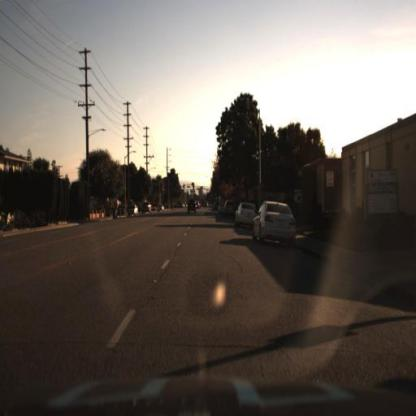car: (252, 199, 301, 248), (237, 203, 264, 225), (188, 196, 198, 217)
